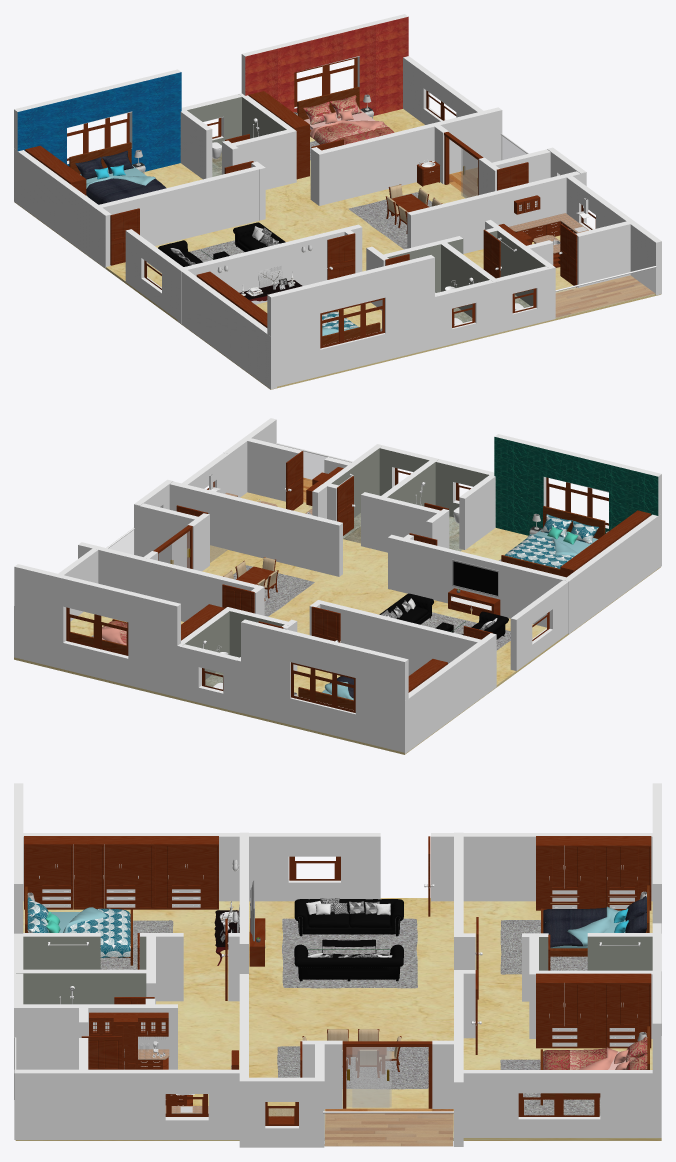
File: 3bhk.glb
The picture shows the model from 3 angles, top to bottom: view 1: azimuth 30°, elevation 25°; view 2: azimuth 150°, elevation 25°; view 3: azimuth 270°, elevation 25°; orthographic projection. The views are drawn at different scales.
Visible parts, largest first — view 1: node_WINDOW WALL (4)_24372, node_3BHK west_23840, node_WINDOW WALL (3)_23604, node_WINDOW WALL (1)_23994, node_WALL15_23736, node_WALL6_23864, node_WALL14_24352, node_WALL8_23612, node_WALL7_24012, node_WALL2_23650, node_WINDOW WALL (6)_23770, node_WINDOW WALL (5)_24190 (+35 smaller); view 2: node_WINDOW WALL (1)_23994, node_WINDOW WALL (3)_23604, node_3BHK west_23840, node_WINDOW WALL (4)_24372, node_WALL14_24352, node_WALL7_24012, node_WALL15_23736, node_WALL8_23612, node_WALL6_23864, node_WALL2_23650, node_WINDOW WALL (9)_24176, node_WINDOW WALL_23990 (+32 smaller); view 3: node_3BHK west_23840, node_WINDOW WALL (2)_24016, node_WALL17_24068, node_WINDOW WALL (9)_24176, node_WINDOW WALL (8)_23884, node_WALL2_23650, node_WINDOW WALL (7)_23762, node_Plane (3)_23538, node_Carpet_23654, node_WALL9 (1)_24006, node_Grill_Glass_-224678, node_WALL10_23902 (+59 smaller).
Boxes of the visible parts, x1,y1,x2,y2 form: node_WINDOW WALL (4)_24372: [267, 255, 434, 388]; node_3BHK west_23840: [14, 109, 660, 389]; node_WINDOW WALL (3)_23604: [14, 69, 181, 172]; node_WINDOW WALL (1)_23994: [241, 14, 408, 115]; node_WALL15_23736: [321, 107, 502, 204]; node_WALL6_23864: [92, 166, 259, 261]; node_WALL14_24352: [407, 171, 586, 253]; node_WALL8_23612: [181, 270, 276, 389]; node_WALL7_24012: [177, 224, 362, 323]; node_WALL2_23650: [14, 149, 98, 258]; node_WINDOW WALL (6)_23770: [494, 266, 555, 333]; node_WINDOW WALL (5)_24190: [433, 280, 494, 348]; node_WINDOW WALL (1)_23994: [14, 564, 180, 696]; node_WINDOW WALL (3)_23604: [241, 619, 408, 752]; node_3BHK west_23840: [14, 492, 660, 754]; node_WINDOW WALL (4)_24372: [494, 434, 661, 535]; node_WALL14_24352: [169, 481, 342, 576]; node_WALL7_24012: [388, 534, 572, 634]; node_WALL15_23736: [78, 542, 257, 621]; node_WALL8_23612: [567, 513, 661, 630]; node_WALL6_23864: [315, 600, 487, 696]; node_WALL2_23650: [404, 642, 483, 753]; node_WINDOW WALL (9)_24176: [510, 580, 568, 670]; node_WINDOW WALL_23990: [180, 644, 241, 712]; node_3BHK west_23840: [15, 898, 661, 1140]; node_WINDOW WALL (2)_24016: [463, 1070, 661, 1137]; node_WALL17_24068: [14, 1069, 133, 1139]; node_WINDOW WALL (9)_24176: [249, 833, 380, 901]; node_WINDOW WALL (8)_23884: [134, 1069, 239, 1139]; node_WALL2_23650: [463, 833, 652, 901]; node_WINDOW WALL (7)_23762: [239, 1077, 324, 1147]; node_Plane (3)_23538: [324, 1108, 453, 1146]; node_Carpet_23654: [282, 918, 417, 988]; node_WALL9 (1)_24006: [16, 1004, 147, 1069]; node_Grill_Glass_-224678: [323, 1113, 453, 1146]; node_WALL10_23902: [16, 969, 152, 1004].
Bounding box in the file's own units: 120 × 26.24 × 131.
Materials: 75 (33 with a texture image).
